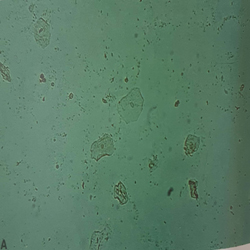Epithelial: (115, 86, 145, 129), (31, 17, 60, 53), (86, 131, 118, 161), (108, 179, 138, 208), (85, 227, 112, 249), (185, 132, 201, 159)
